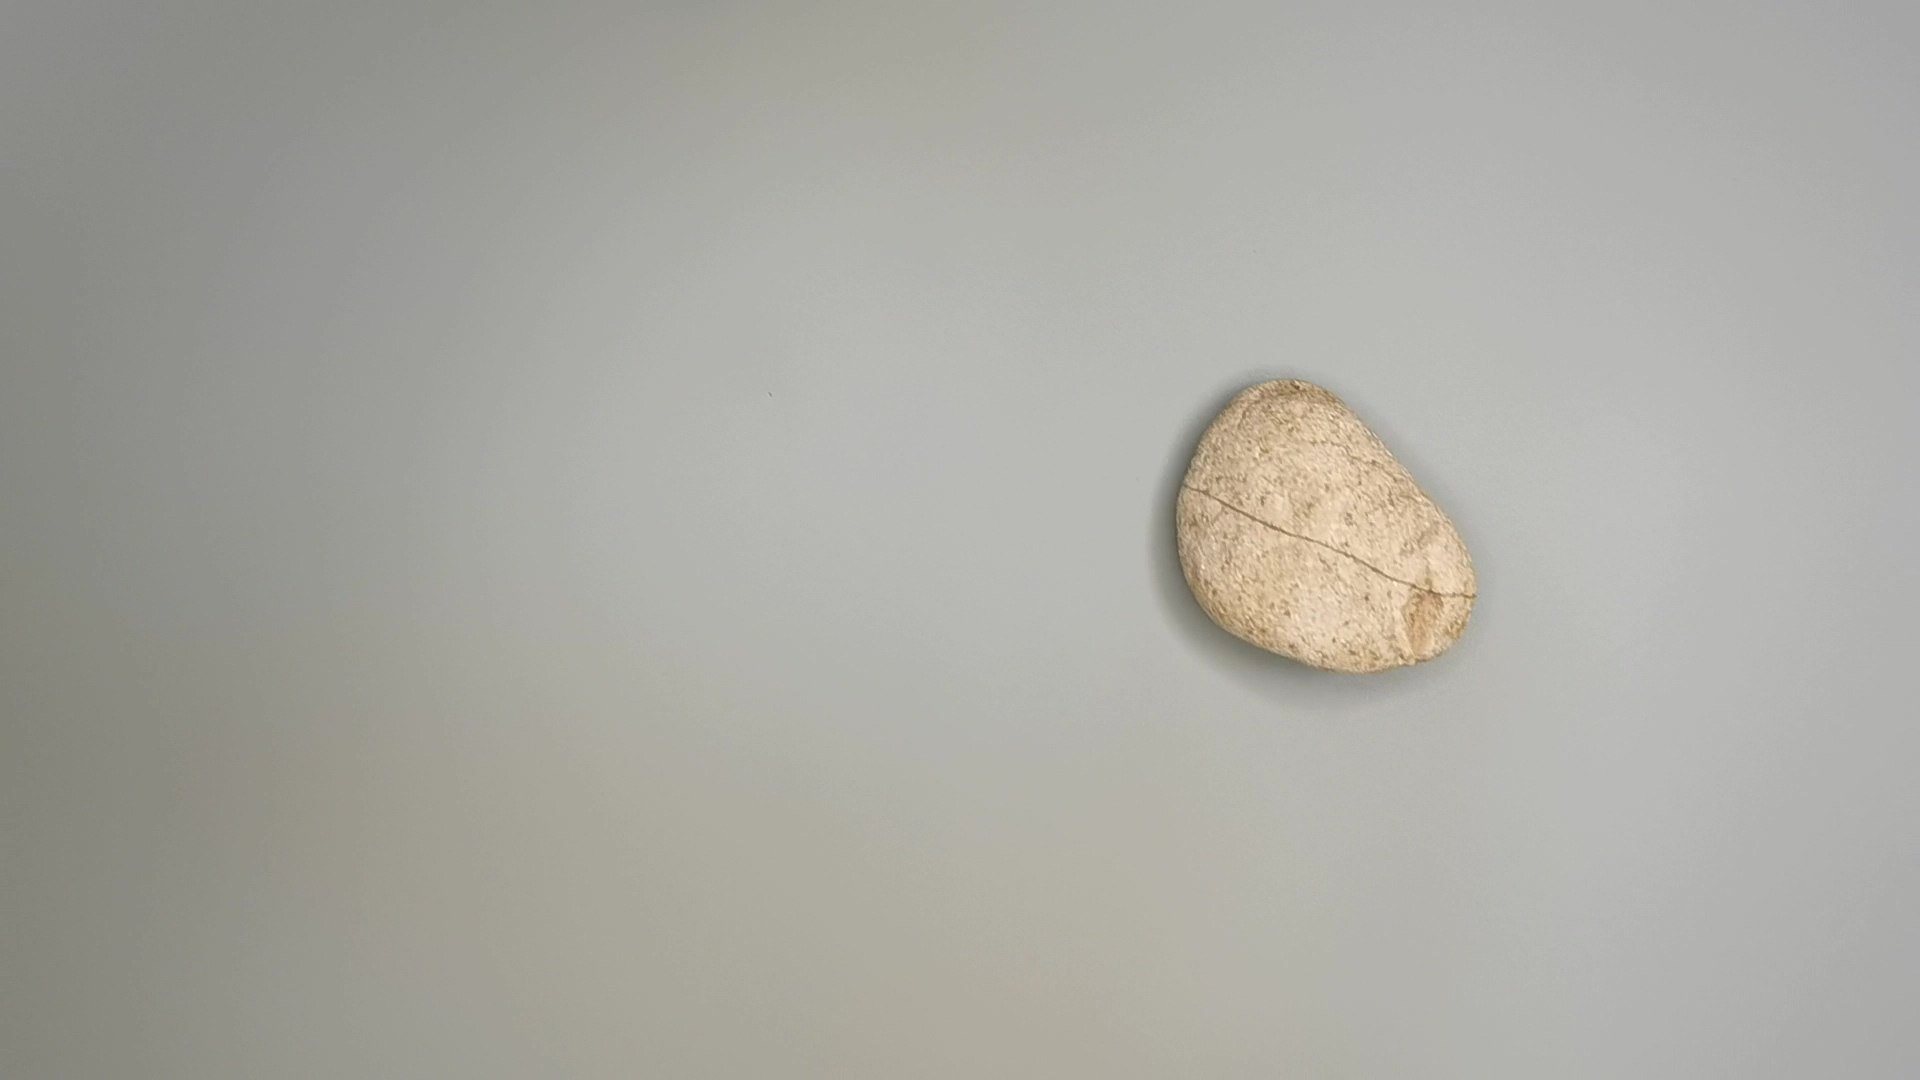ceramic: (1174, 376, 1481, 687)
